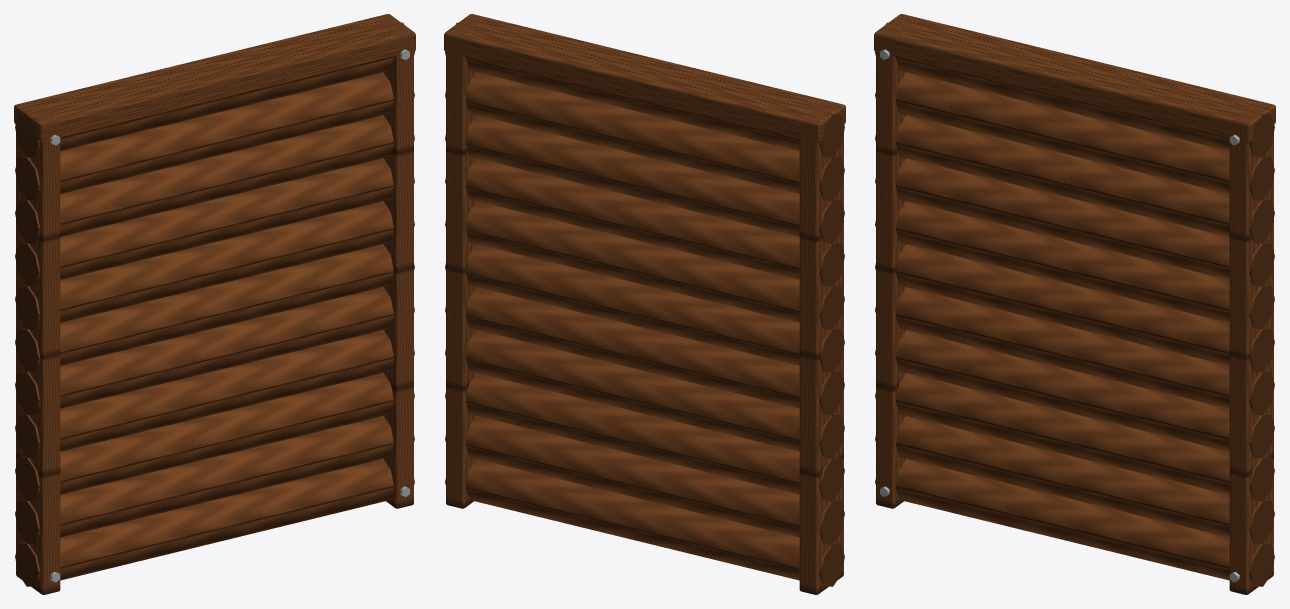
Rendered from prehistoric-survivor-settlement-log-wall-ac82ff1f__23160.glb.
3 views of the same model, side by side, from view 1: azimuth 30°, elevation 25°; view 2: azimuth 150°, elevation 25°; view 3: azimuth 330°, elevation 25° (orthographic).
Visible parts, largest first — view 1: log-wall; view 2: log-wall; view 3: log-wall.
Boxes of the visible parts, box(x1,y1,x2,y2) form: log-wall: box(14, 14, 415, 594); log-wall: box(444, 14, 845, 594); log-wall: box(874, 14, 1275, 594).
Size of the model in its own units: 2 by 2.4 by 0.2774.
2 materials, 1 textured.
